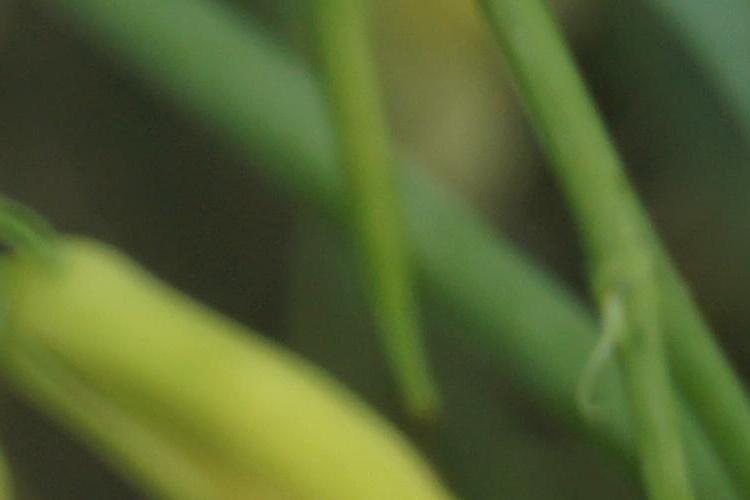bud: (48, 226, 455, 500)
